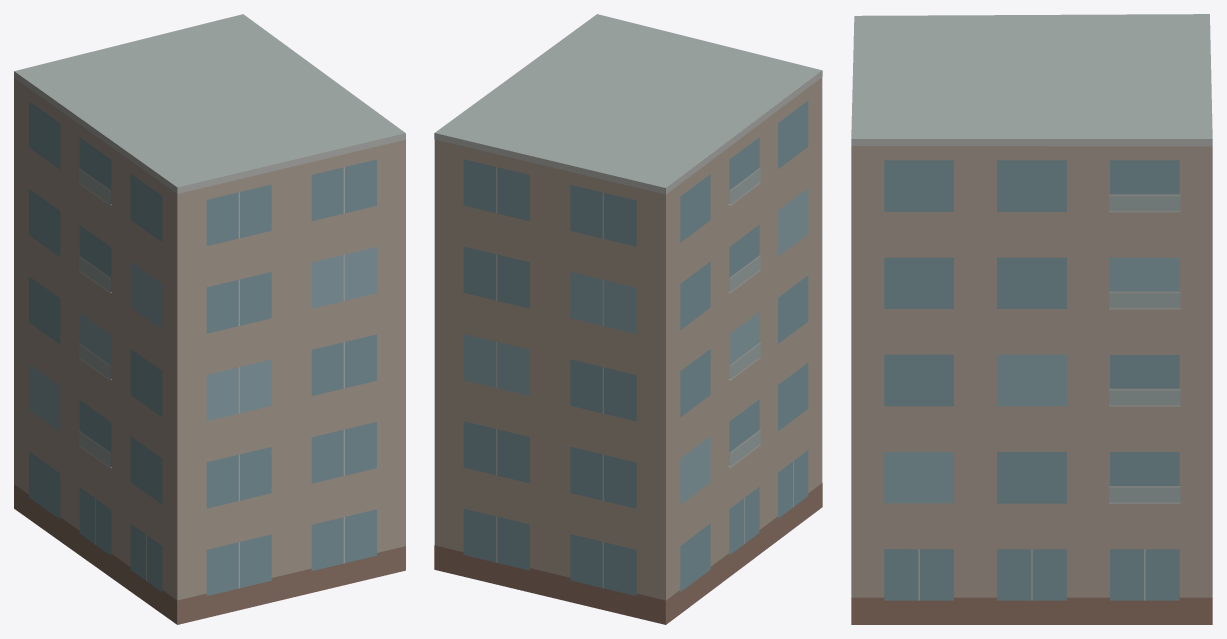
Rendered from survey-upis-32520454.glb.
The picture shows the model from 3 angles, left to right: view 1: azimuth 30°, elevation 25°; view 2: azimuth 150°, elevation 25°; view 3: azimuth 270°, elevation 25°; orthographic projection. The views are drawn at different scales.
Parts seen in each view (by area): view 1: survey-upis-32520454.tmp; view 2: survey-upis-32520454.tmp; view 3: survey-upis-32520454.tmp.
Part boxes in pixels (box(x1,y1,x2,y2)): survey-upis-32520454.tmp: box(14, 14, 405, 624); survey-upis-32520454.tmp: box(434, 14, 822, 624); survey-upis-32520454.tmp: box(851, 14, 1212, 624).
Size of the model in its own units: 9.07 by 16.37 by 11.05.
